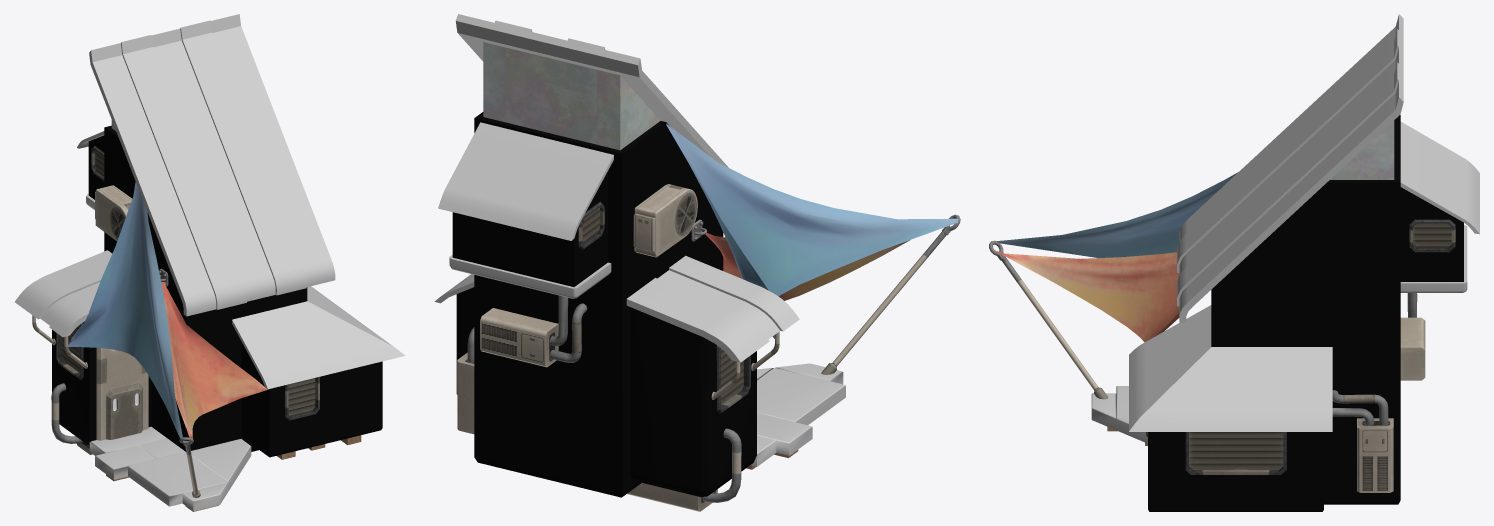
File: ShackV2.fbx
The picture shows the model from 3 angles, left to right: view 1: azimuth 30°, elevation 25°; view 2: azimuth 150°, elevation 25°; view 3: azimuth 270°, elevation 25°; orthographic projection. The views are drawn at different scales.
Visible parts, largest first — view 1: ShackRoof, ShackCloth, ShackDetail, ShackWalls2, ShackWalls1, ShackConcreteFloor, ShackWalls3; view 2: ShackWalls1, ShackRoof, ShackWalls3, ShackCloth, ShackDetail, ShackExteriorPanels, ShackConcreteFloor, ShackWalls2; view 3: ShackRoof, ShackWalls1, ShackCloth, ShackDetail, ShackWalls2, ShackWalls3, ShackExteriorPanels, ShackConcreteFloor.
Boxes of the visible parts, x1,y1,x2,y2 form: ShackRoof: [15, 14, 405, 389]; ShackCloth: [66, 182, 267, 438]; ShackDetail: [32, 146, 319, 497]; ShackWalls2: [241, 342, 382, 457]; ShackWalls1: [104, 125, 307, 451]; ShackConcreteFloor: [89, 426, 251, 511]; ShackWalls3: [52, 135, 151, 445]; ShackWalls1: [474, 112, 723, 497]; ShackRoof: [434, 14, 799, 362]; ShackWalls3: [452, 171, 756, 496]; ShackCloth: [666, 123, 957, 338]; ShackDetail: [457, 184, 960, 511]; ShackExteriorPanels: [483, 42, 660, 150]; ShackConcreteFloor: [750, 363, 845, 466]; ShackWalls2: [456, 287, 474, 394]; ShackRoof: [1129, 14, 1479, 431]; ShackWalls1: [1211, 115, 1400, 504]; ShackCloth: [994, 172, 1238, 342]; ShackDetail: [989, 219, 1455, 492]; ShackWalls2: [1148, 432, 1323, 511]; ShackWalls3: [1400, 187, 1463, 281]; ShackExteriorPanels: [1330, 120, 1394, 179]; ShackConcreteFloor: [1091, 386, 1147, 443].
Size of the model in its own units: 543 by 691 by 711.
